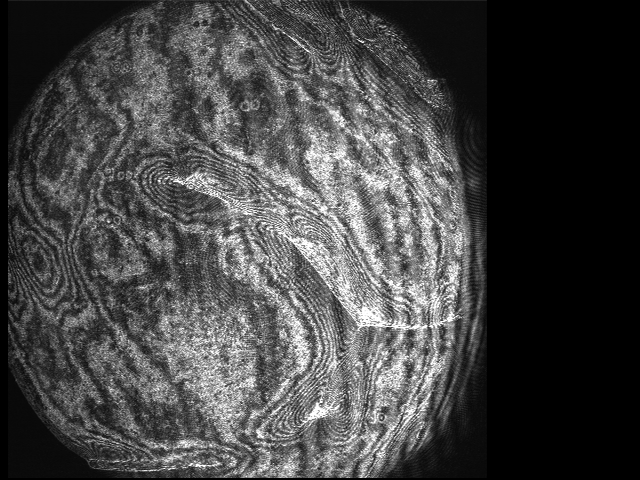plume: (129, 151, 278, 219)
